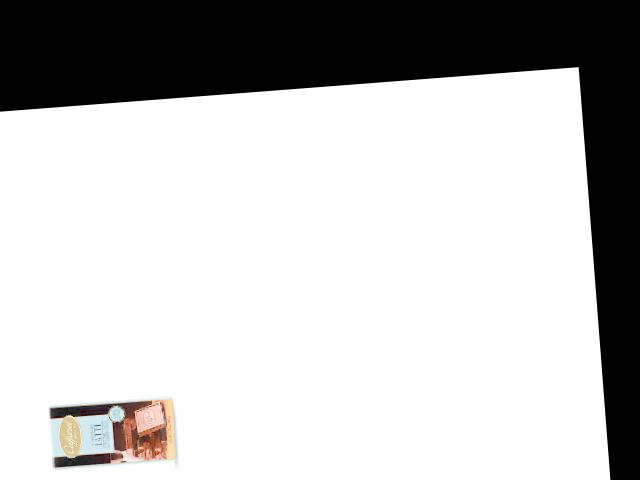chocolate: (47, 395, 179, 472)
